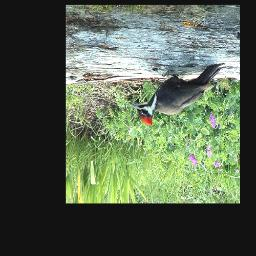Woodpecker: (130, 65, 225, 126)
